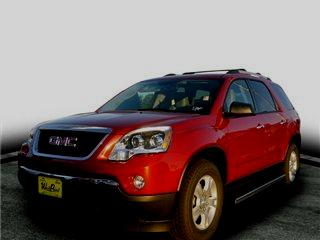GMC: (42, 131, 84, 152)
